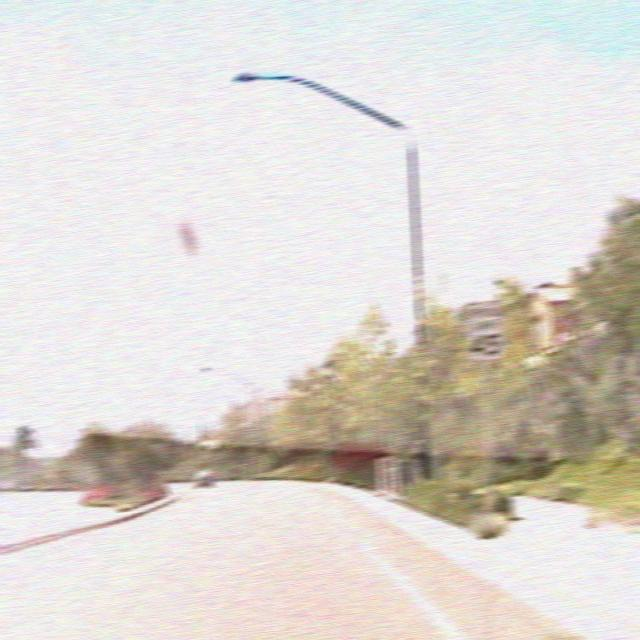speedLimit45: (464, 297, 504, 360)
